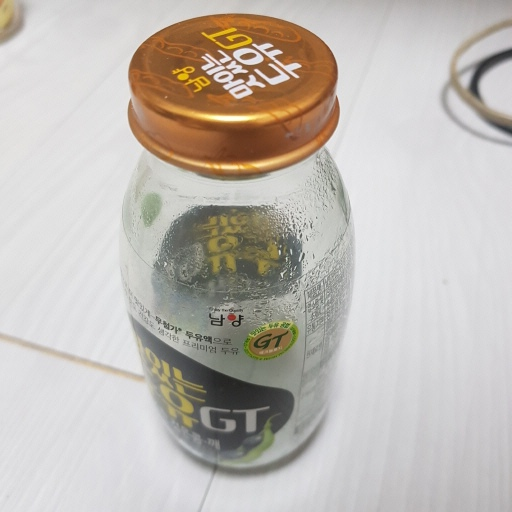Glass_4: (114, 18, 355, 469)
